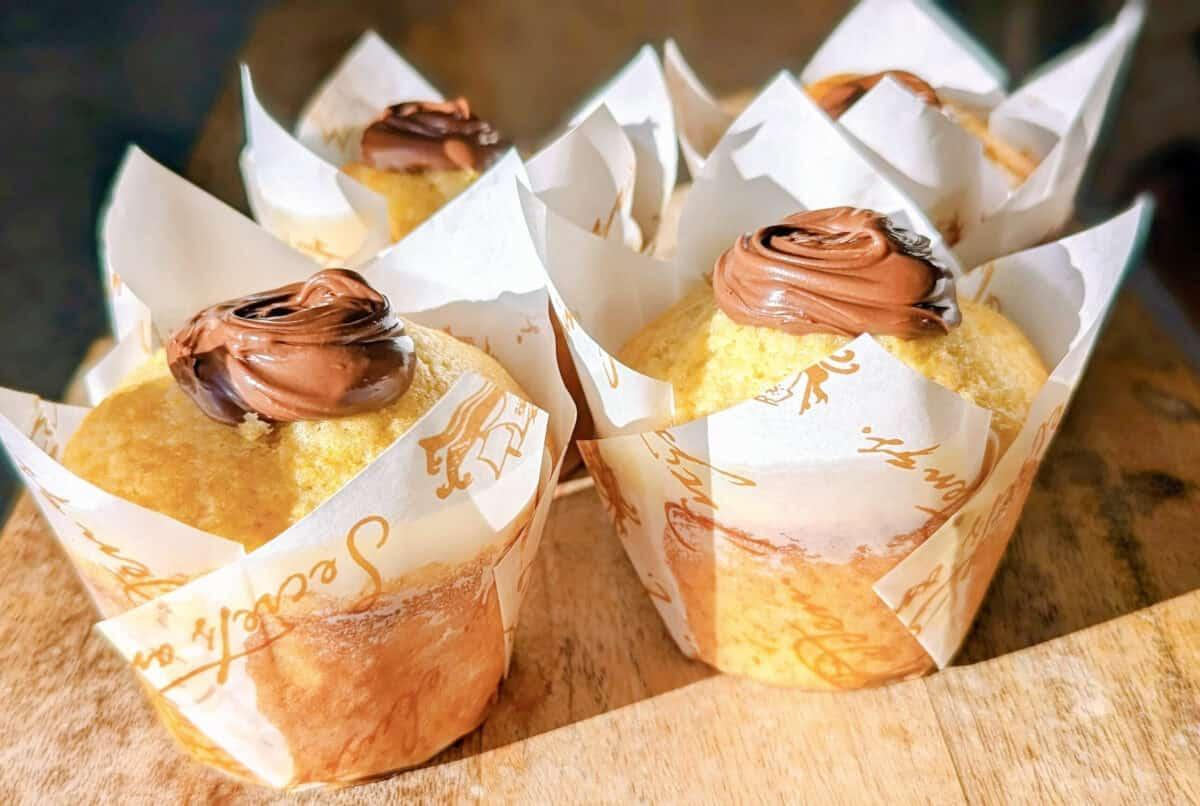muffin: (6, 250, 556, 782), (558, 172, 1070, 681), (308, 40, 518, 243)
